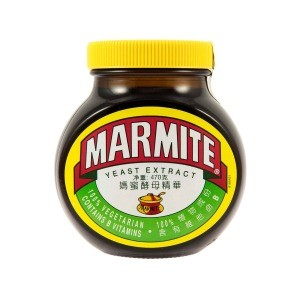yeast spread_brain food: (69, 94, 232, 224)
